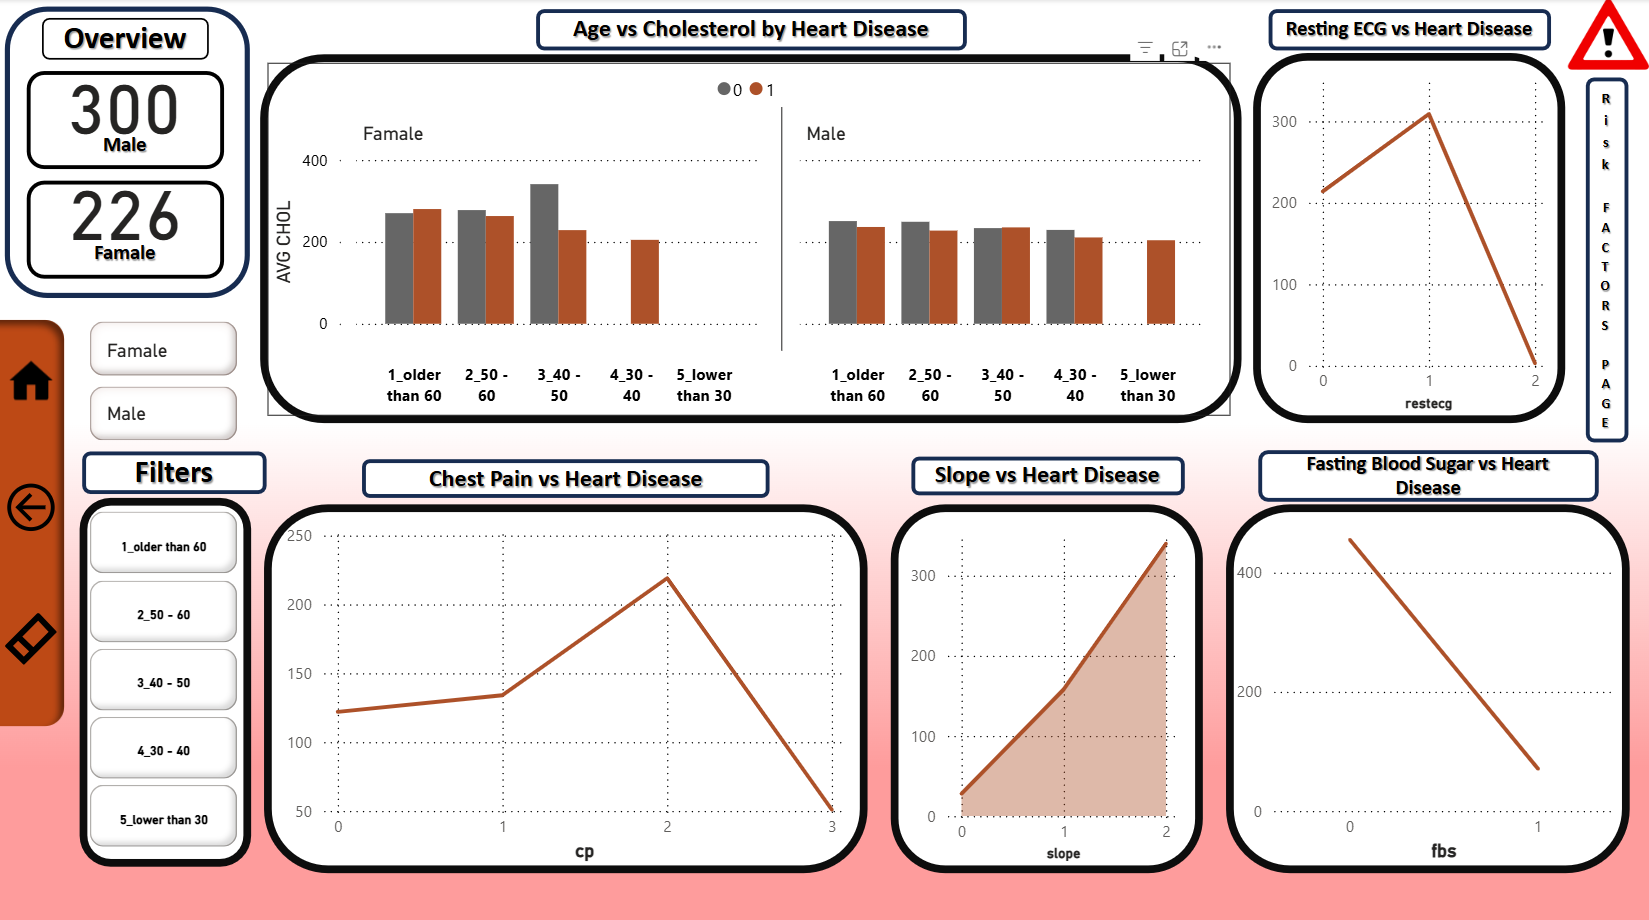

The page's visual inventory and layout, read from the dashboard file:
{"tool":"powerbi","page":{"name":"Page 1","canvas":[1280,720],"ordinal":2},"visuals":[{"type":"lineChart","fields":{"Category":["heart.fbs"],"Y":["Sum(heart.target)"]},"box":[953.8,384.8,302.4,288.9],"z":0},{"type":"lineChart","fields":{"Category":["heart.cp"],"Y":["Sum(heart.target)"]},"box":[217.3,402.3,443.1,271.4],"z":1000},{"type":"actionButton","box":[0,342.2,48,103.3],"z":2000},{"type":"stackedAreaChart","fields":{"Category":["heart.slope"],"Y":["Sum(heart.target)"]},"box":[701.2,402.3,218.5,271.4],"z":3000},{"type":"lineChart","fields":{"Category":["heart.restecg"],"Y":["Sum(heart.target)"]},"box":[981,49.2,224.5,275],"z":4000},{"type":"card","fields":{"Values":["Sum(heart.target)"]},"box":[12.8,24.2,168.2,109.8],"z":5000},{"type":"card","fields":{"Values":["Sum(heart.target)"]},"box":[34.8,129.7,124.9,62.4],"z":6000},{"type":"clusteredColumnChart","fields":{"Category":["heart.Age Category Sorted"],"Y":["Avg(heart.chol)"],"Series":["heart.target"],"Rows":["heart.sex"]},"box":[207.4,49.4,746.4,274.3],"z":7000},{"type":"actionButton","box":[0,445.5,48,100.9],"z":8000},{"type":"actionButton","box":[0,263.8,48.3,64.7],"z":9000},{"type":"advancedSlicerVisual","fields":{"Values":["heart.sex"]},"box":[64.8,245,124.9,103.3],"z":10000},{"type":"advancedSlicerVisual","fields":{"Values":["heart.Age Category Sorted"]},"box":[64.8,392.6,124.9,273.8],"z":11000}]}

Visuals, with their boxes in screenshot pixels (x1, y1, x2, y2), scaled from the page's 1280x720 canvas onto the 1649x920 screenshot:
lineChart - heart.fbs x Sum(heart.target): (1229, 492, 1618, 861)
lineChart - heart.cp x Sum(heart.target): (280, 514, 851, 861)
actionButton: (0, 437, 62, 569)
stackedAreaChart - heart.slope x Sum(heart.target): (903, 514, 1185, 861)
lineChart - heart.restecg x Sum(heart.target): (1264, 63, 1553, 414)
card - Sum(heart.target): (16, 31, 233, 171)
card - Sum(heart.target): (45, 166, 206, 245)
clusteredColumnChart - heart.Age Category Sorted x Avg(heart.chol): (267, 63, 1229, 414)
actionButton: (0, 569, 62, 698)
actionButton: (0, 337, 62, 420)
advancedSlicerVisual - heart.sex: (83, 313, 244, 445)
advancedSlicerVisual - heart.Age Category Sorted: (83, 502, 244, 852)
